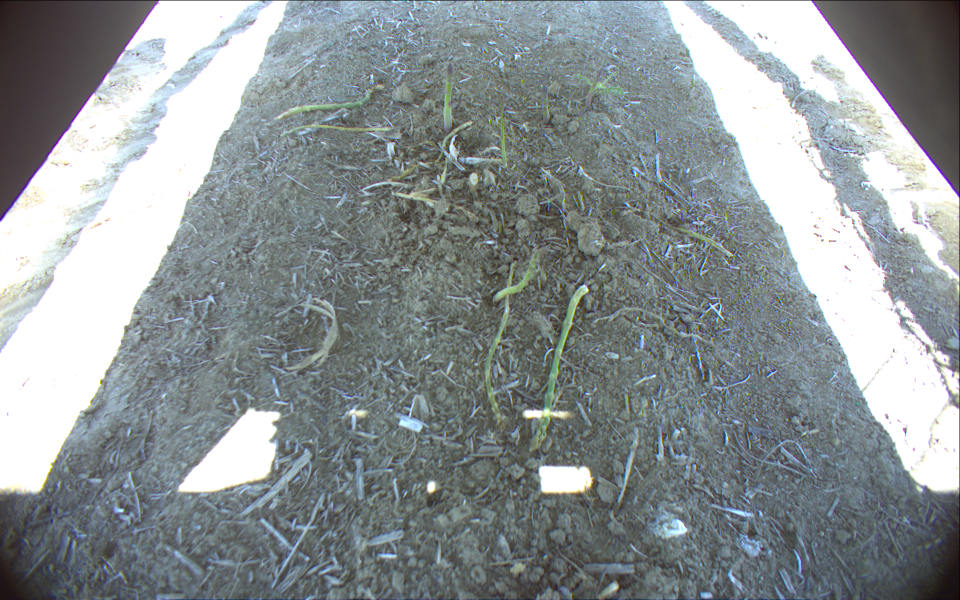aspa: (440, 60, 454, 140), (538, 82, 551, 125)
